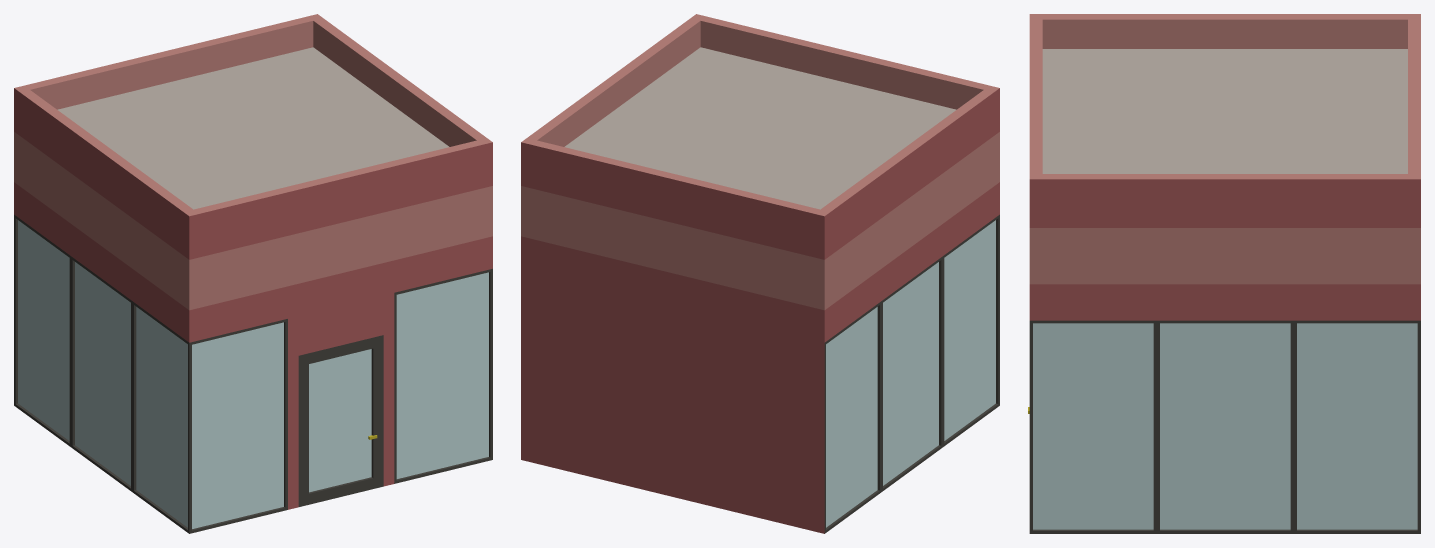
File: building_small.fbx
The picture shows the model from 3 angles, left to right: view 1: azimuth 30°, elevation 25°; view 2: azimuth 150°, elevation 25°; view 3: azimuth 270°, elevation 25°; orthographic projection. The views are drawn at different scales.
Visible parts, largest first — view 1: building_small; view 2: building_small; view 3: building_small.
Part boxes in pixels (left/top/right/bottom): building_small: left=14, top=14, right=492, bottom=533; building_small: left=521, top=14, right=999, bottom=533; building_small: left=1029, top=14, right=1420, bottom=533.
Bounding box in the file's own units: 600 × 600 × 602.
